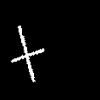single_crochet: (11, 26, 43, 81)
